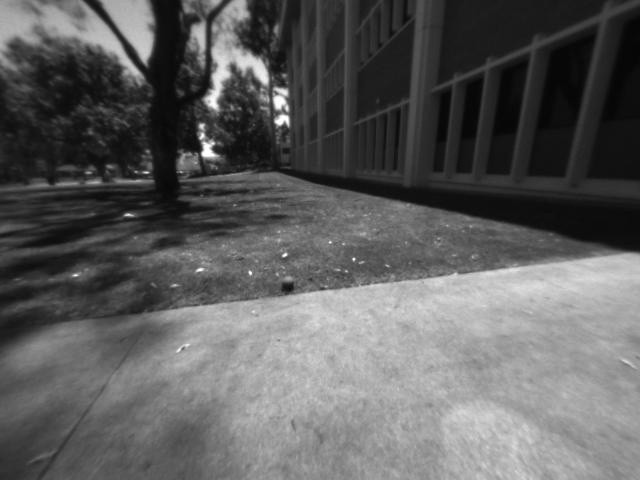dogtoy: (276, 270, 302, 298)
